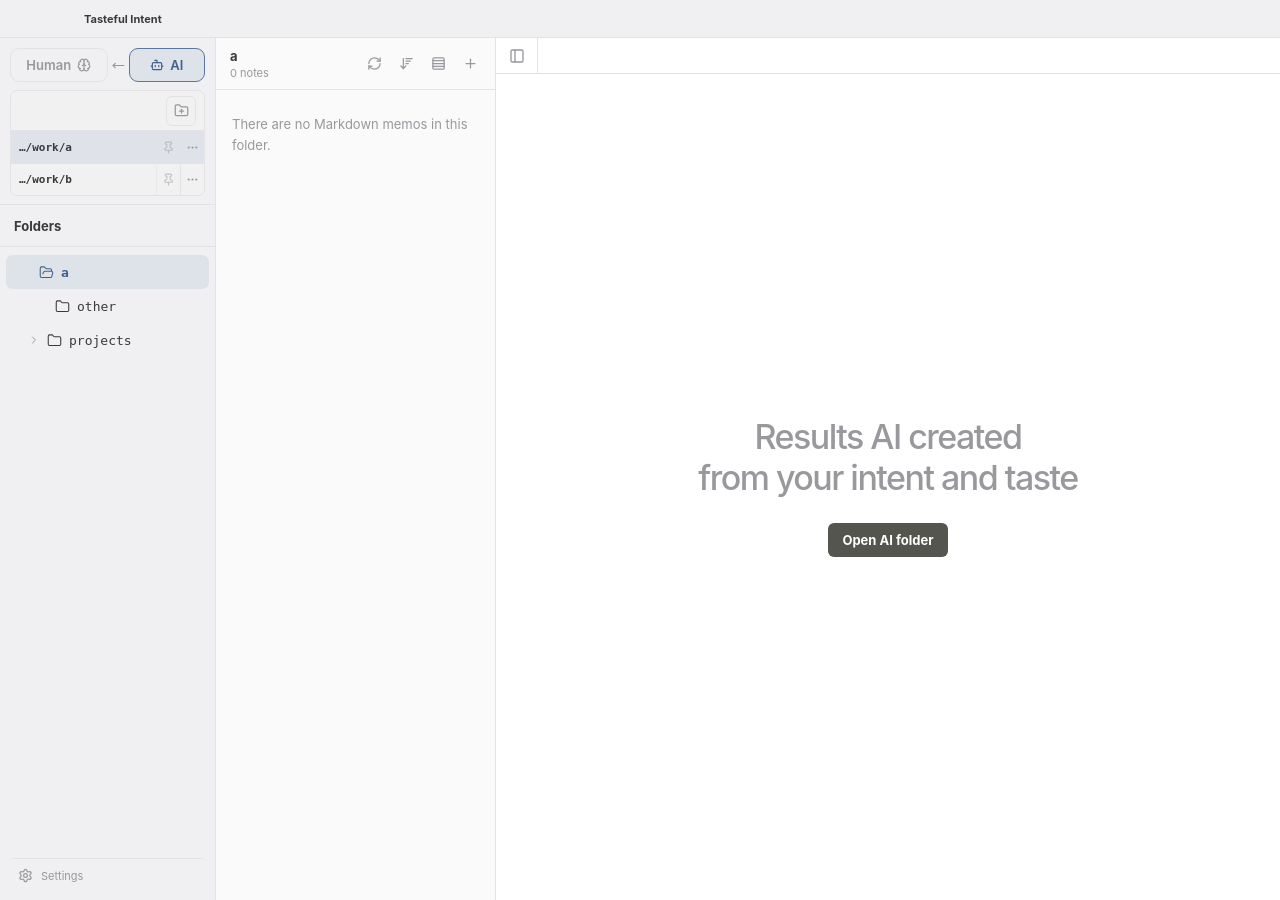
Scenario: AI unified folder tabs › keeps the mounted root and marks a failed target unavailable
What coordinates should you click on to do the following:
click the button with aria-label "Open AI folder b: /work/b"
I would click on:
 (84, 180)
Its box is [11,164,156,195].
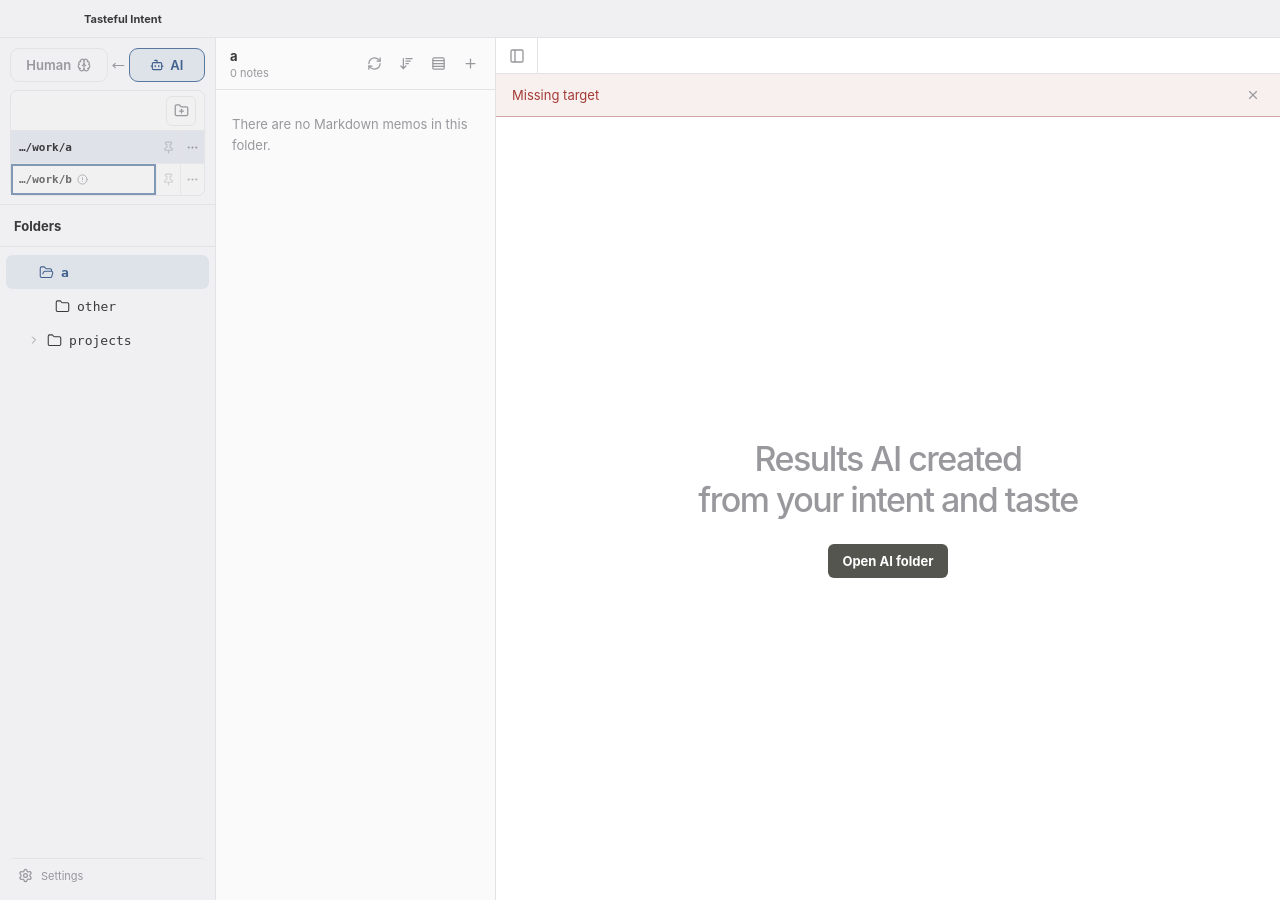
expect the button with aria-label "Open AI folder b: /work/b. Unavailable" is shown: met, box [11,164,156,195]
